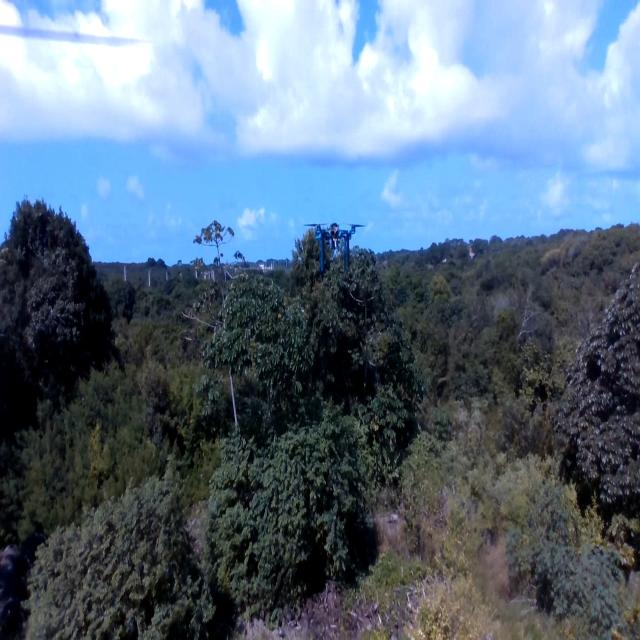-uav-: (302, 205, 376, 288)
